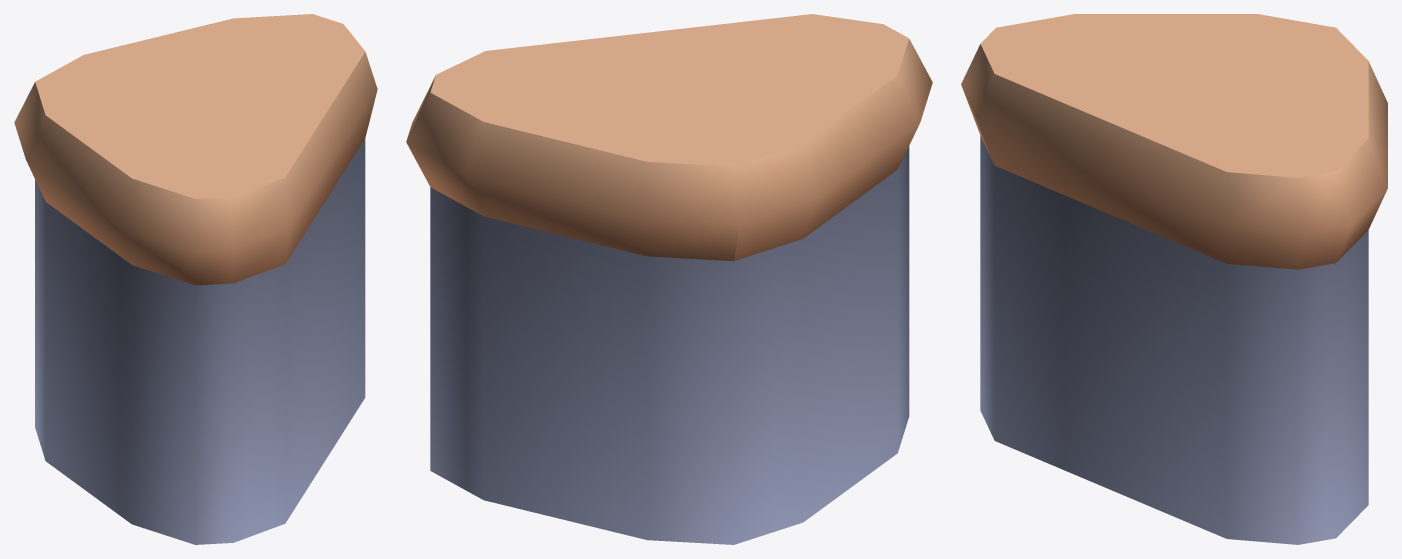
Rendered from block-grass-corner.glb.
The picture shows the model from 3 angles, left to right: view 1: azimuth 30°, elevation 25°; view 2: azimuth 150°, elevation 25°; view 3: azimuth 270°, elevation 25°; orthographic projection. The views are drawn at different scales.
Parts seen in each view (by area): view 1: block-grass-corner; view 2: block-grass-corner; view 3: block-grass-corner.
Part boxes in pixels (<box>): block-grass-corner: <box>14,14,377,544</box>; block-grass-corner: <box>406,14,932,544</box>; block-grass-corner: <box>961,14,1387,544</box>.
Size of the model in its own units: 1.05 by 1 by 1.05.
